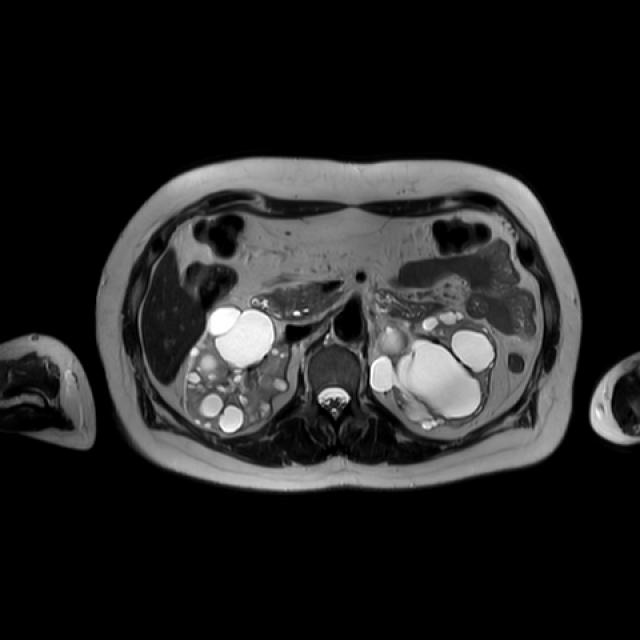sag: (177, 303, 291, 435)
sol: (371, 308, 499, 430)
